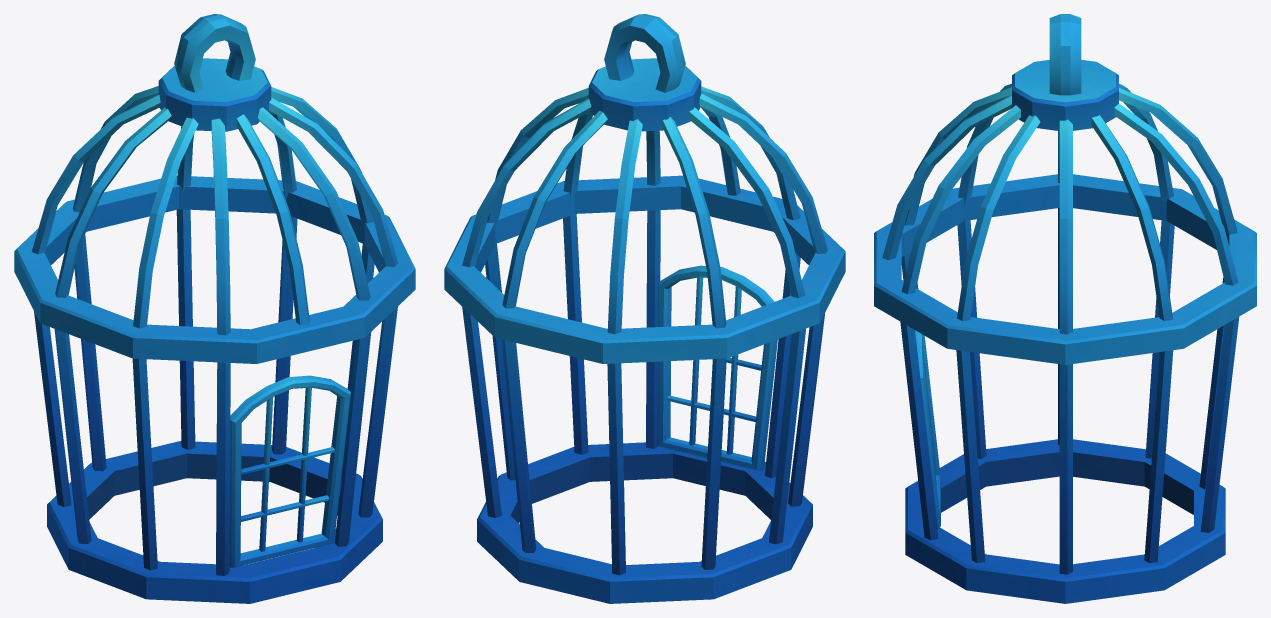
File: bird cage.fbx
3 renders of one model, left to right at view 1: azimuth 30°, elevation 25°; view 2: azimuth 150°, elevation 25°; view 3: azimuth 270°, elevation 25°, orthographic.
Visible parts, largest first — view 1: cage, gate; view 2: cage, gate; view 3: cage, gate.
Boxes of the visible parts, box(x1,y1,x2,y2) form: cage: box(14, 14, 415, 603); gate: box(229, 375, 350, 567); cage: box(444, 14, 845, 603); gate: box(657, 265, 777, 471); cage: box(874, 14, 1256, 603); gate: box(915, 330, 940, 529).
Bounding box in the file's own units: 11.35 × 16.02 × 10.8.
1 material, 1 textured.
